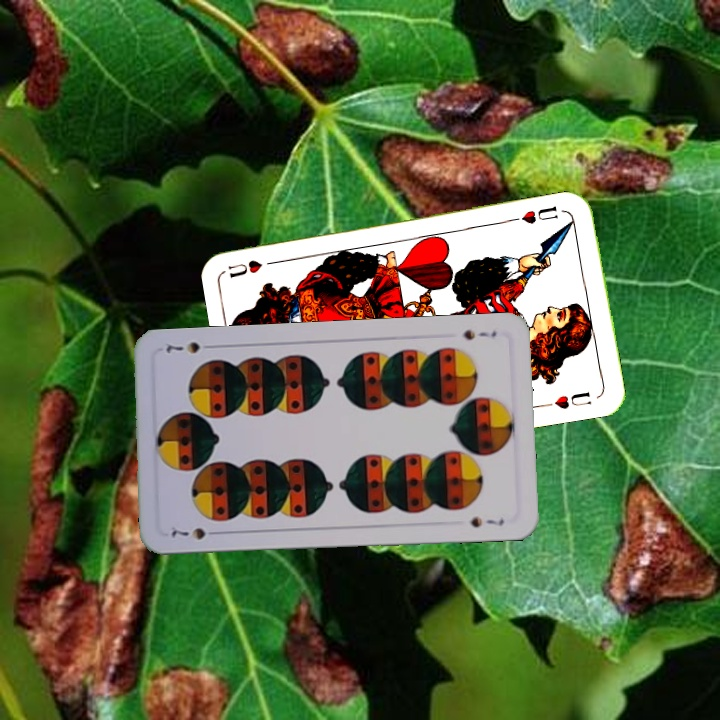HU: (511, 202, 560, 226)
S7: (167, 523, 223, 542), (459, 326, 499, 343)
